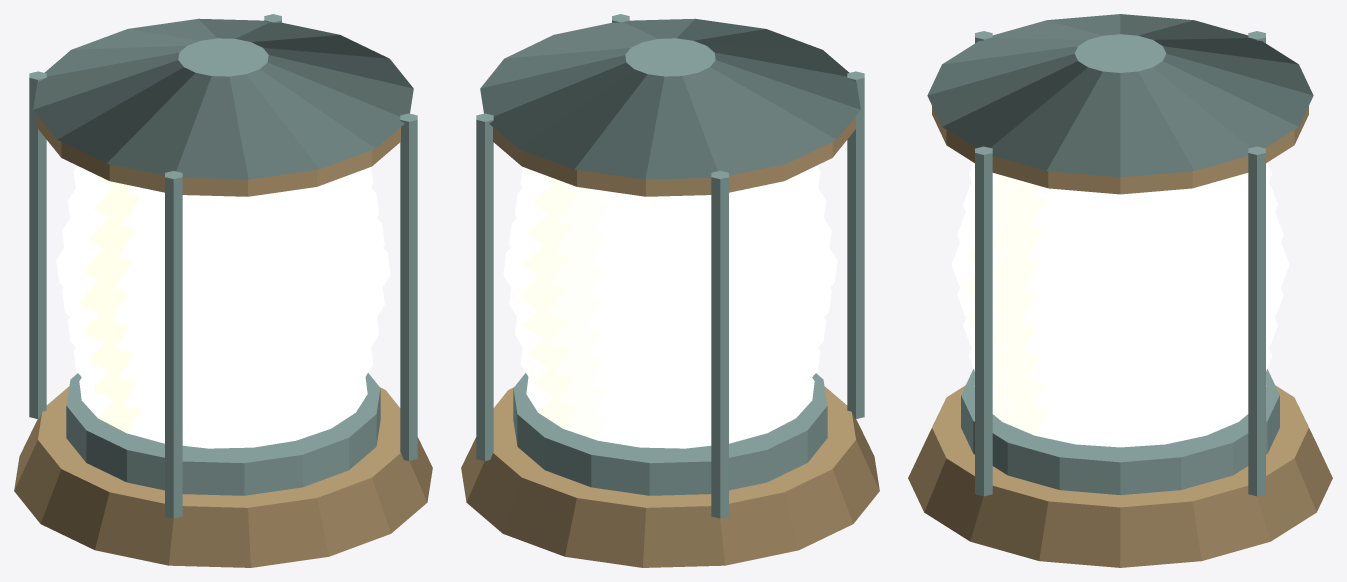
File: beacon_lens.glb
3 views of the same model, side by side, from view 1: azimuth 30°, elevation 25°; view 2: azimuth 150°, elevation 25°; view 3: azimuth 270°, elevation 25° (orthographic).
Bounding box in the file's own units: 0.88 × 0.97 × 0.88.
